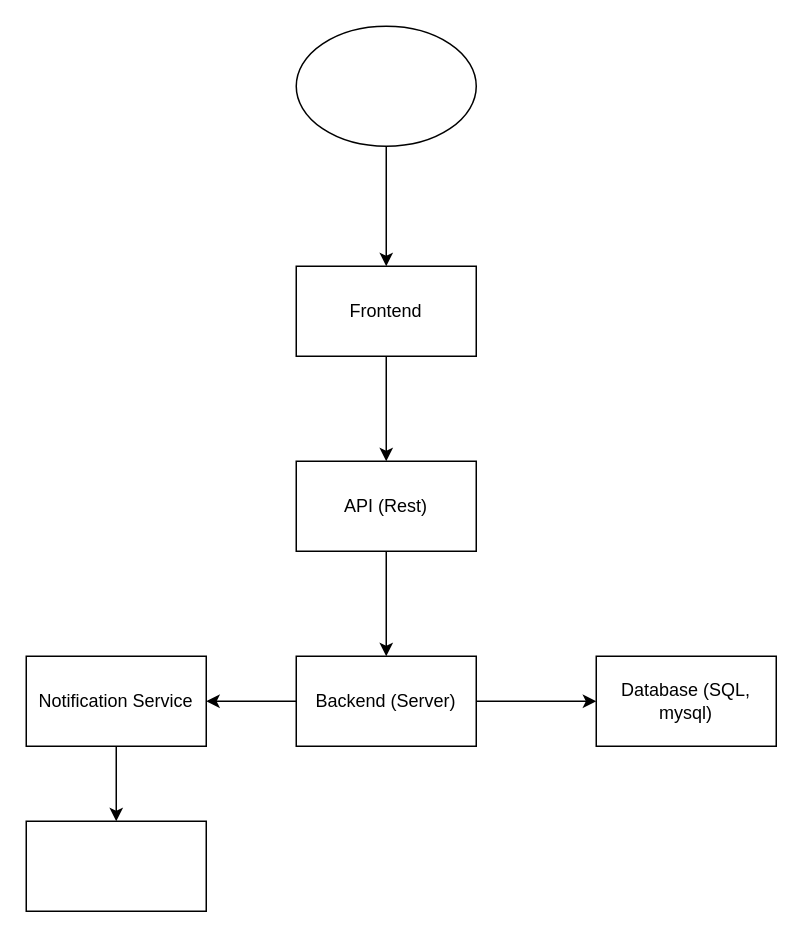
This 803x938 diagram has some shape labels left out. Each missing label, with the centre of its shape:
"Push або Services (Telegram, email, etc)" belongs at point (115, 865).
"User" belongs at point (385, 85).
